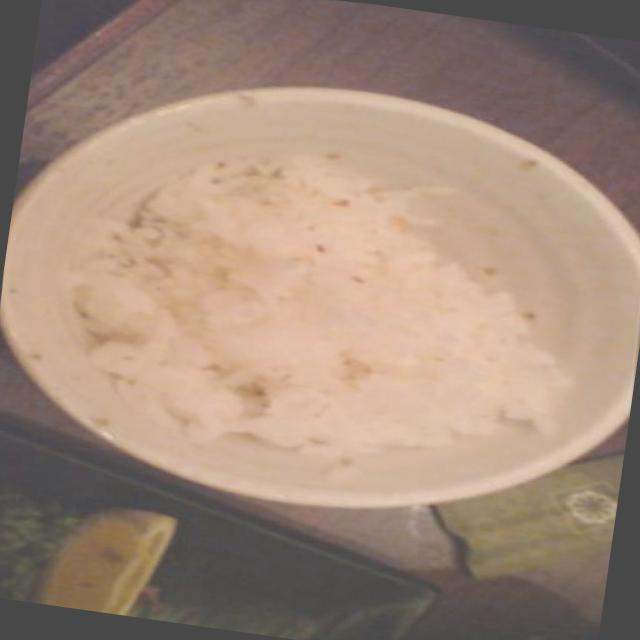Rice: (67, 130, 570, 475)
